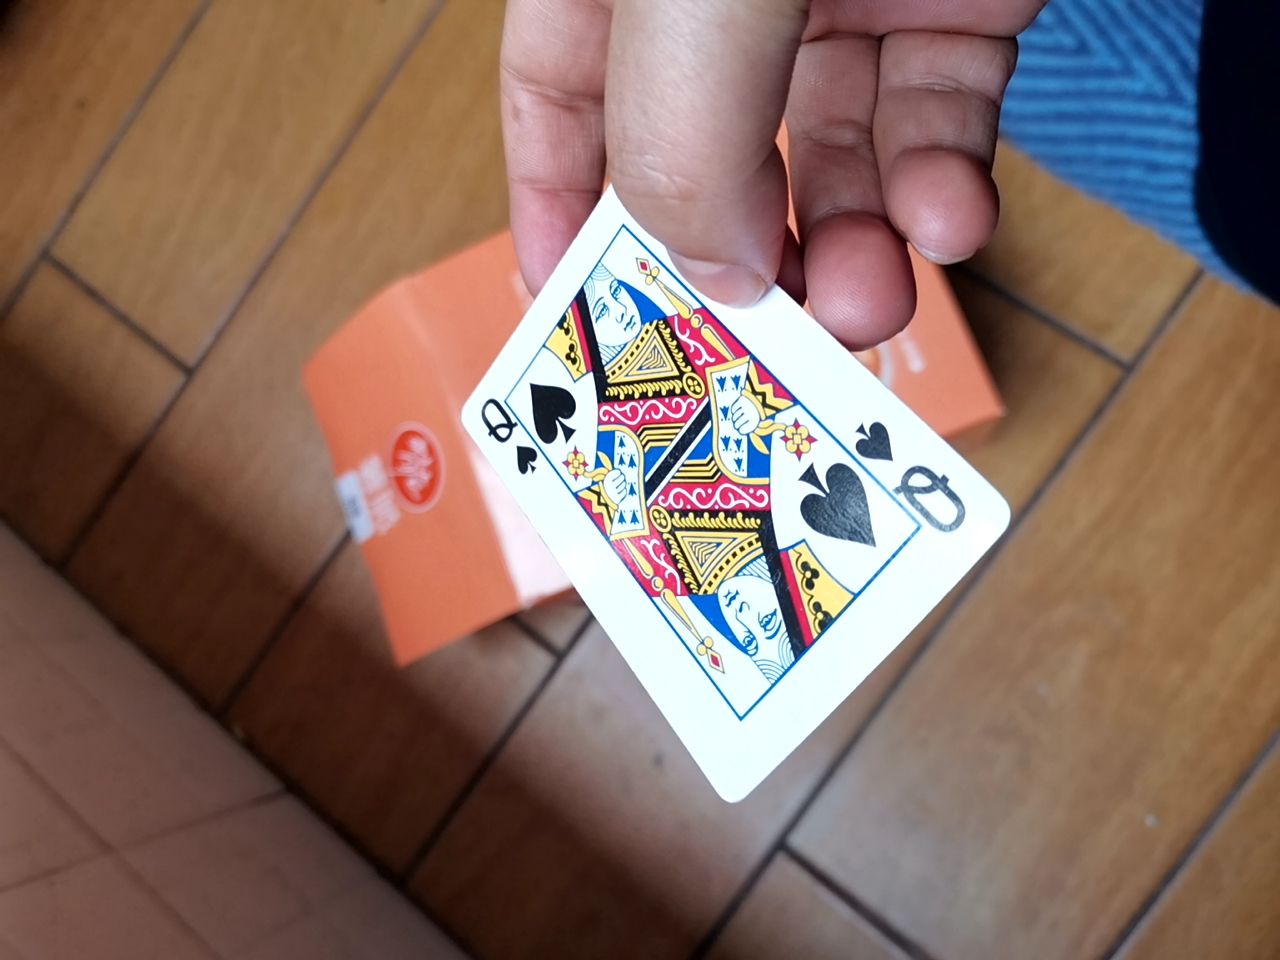ht q: (417, 197, 999, 823)
